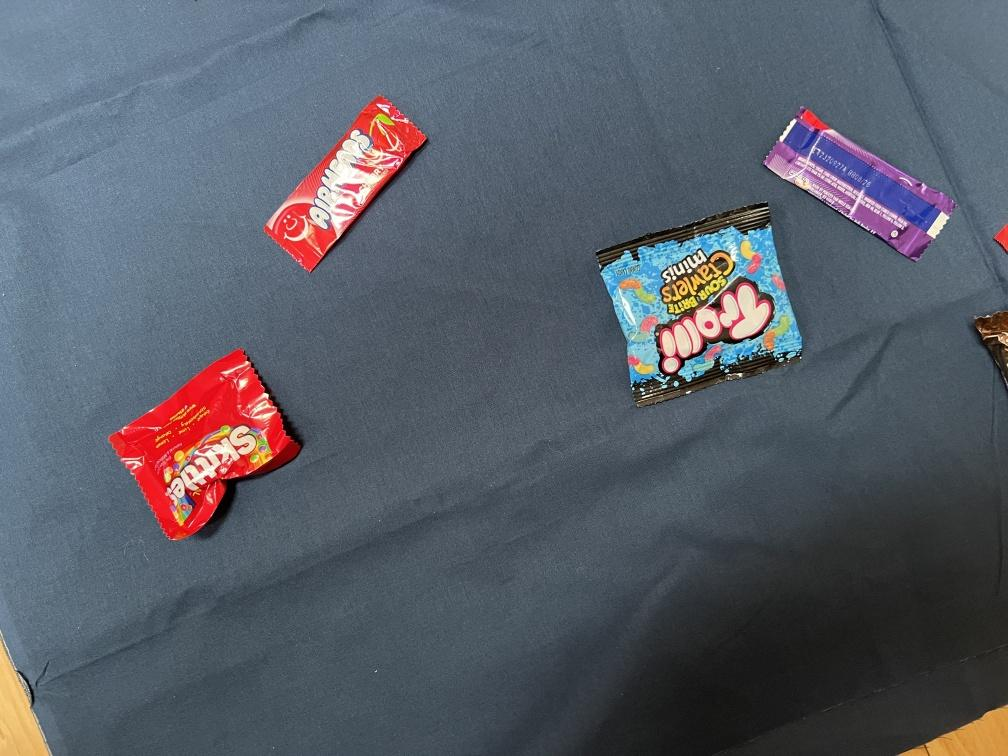Trolli: (595, 202, 804, 406)
airheads: (762, 106, 960, 260), (260, 94, 430, 272)
skittles: (106, 349, 304, 539)
